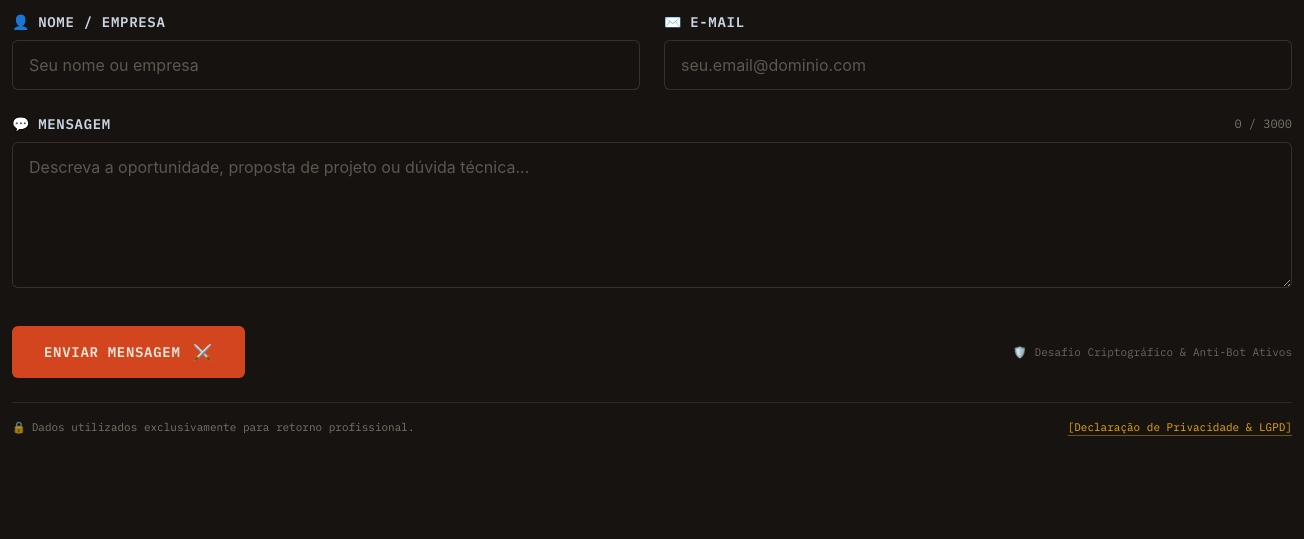
Test case: ContactForm › exibe o bloco de erro com role='alert' em caso de falha no envio
This screenshot has width=1304, height=539.
Type "Ciri" into the field labelled "👤 Nome / Empresa" at (326, 65), box [12,40,640,90]
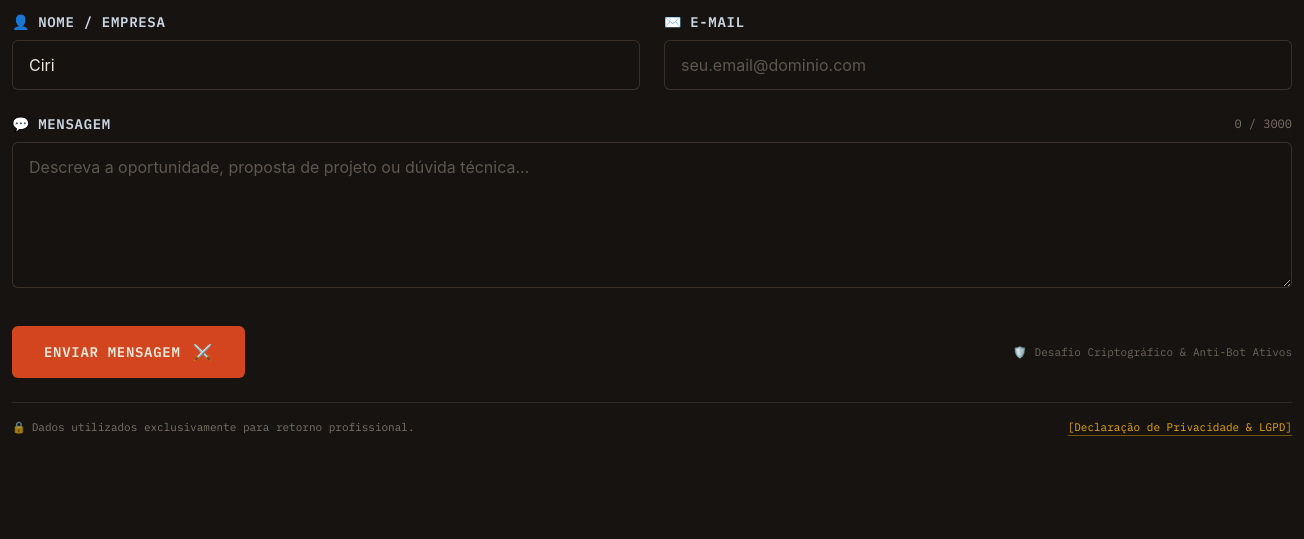
Type "ciri@cintra.com" into the field labelled "✉️ E-mail" at (978, 65), box [664,40,1292,90]
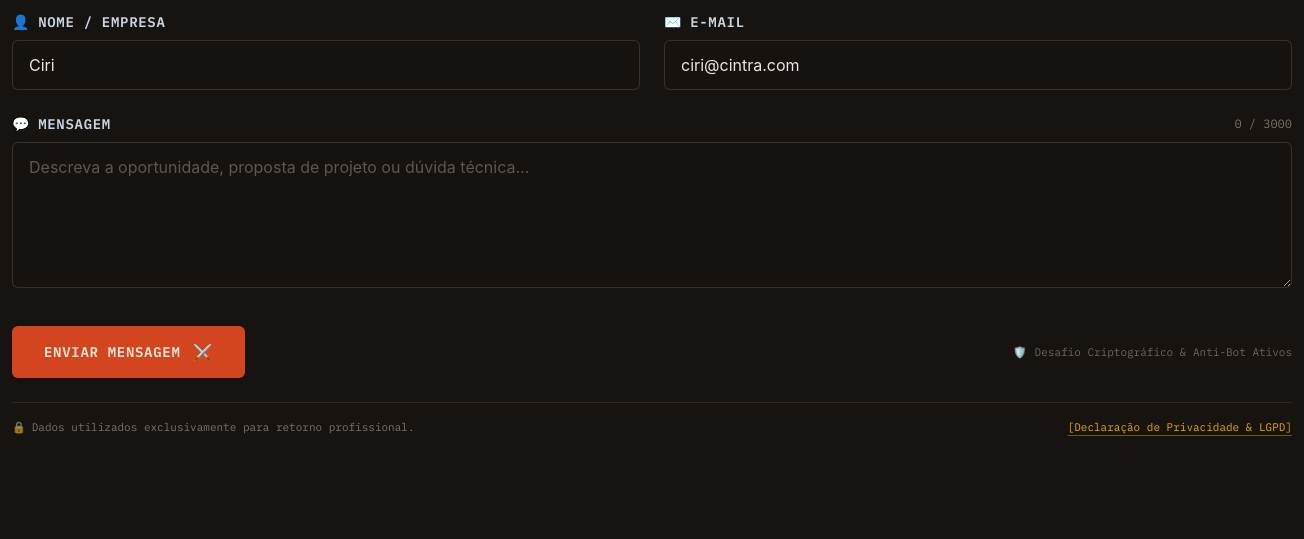
Replace the text in the text box labelled "💬 Mensagem" with "Mensagem de teste" at (652, 215), box [12,142,1292,288]
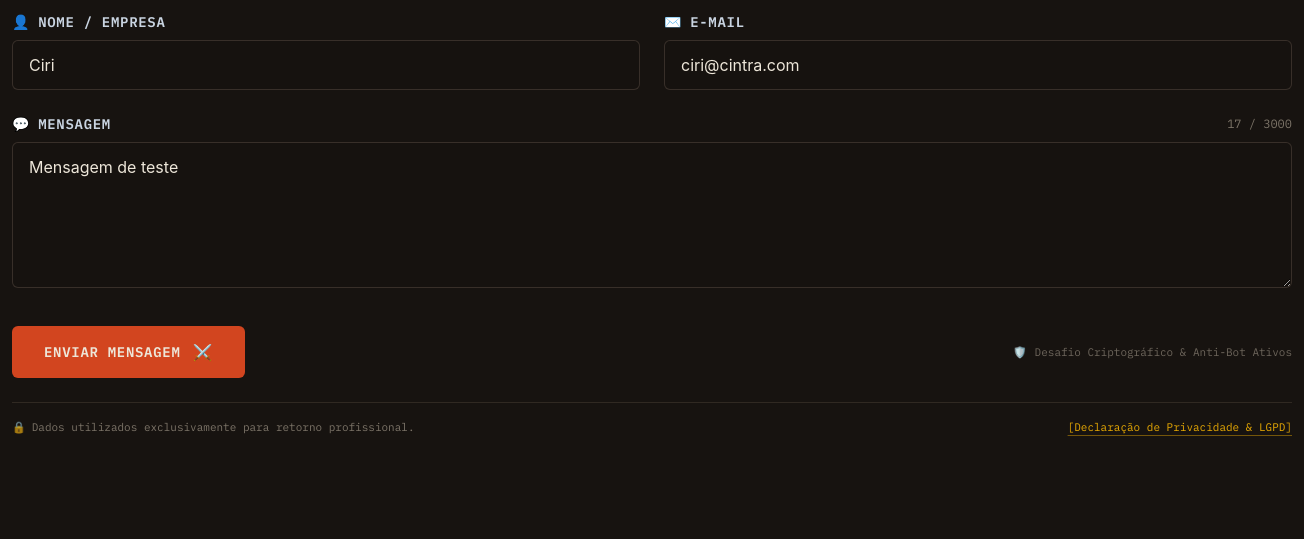
Click the button "Enviar Mensagem ⚔️" at (129, 352), box [12,326,245,378]
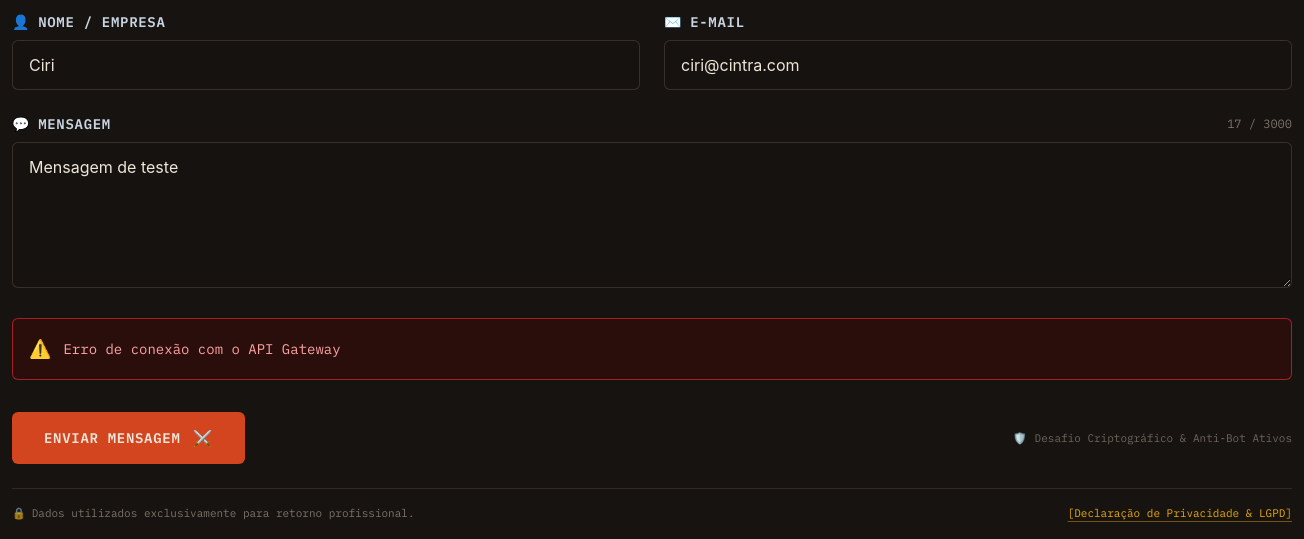
Now the message shows "Erro de conexão com o API Gateway", box [64,340,341,358]
